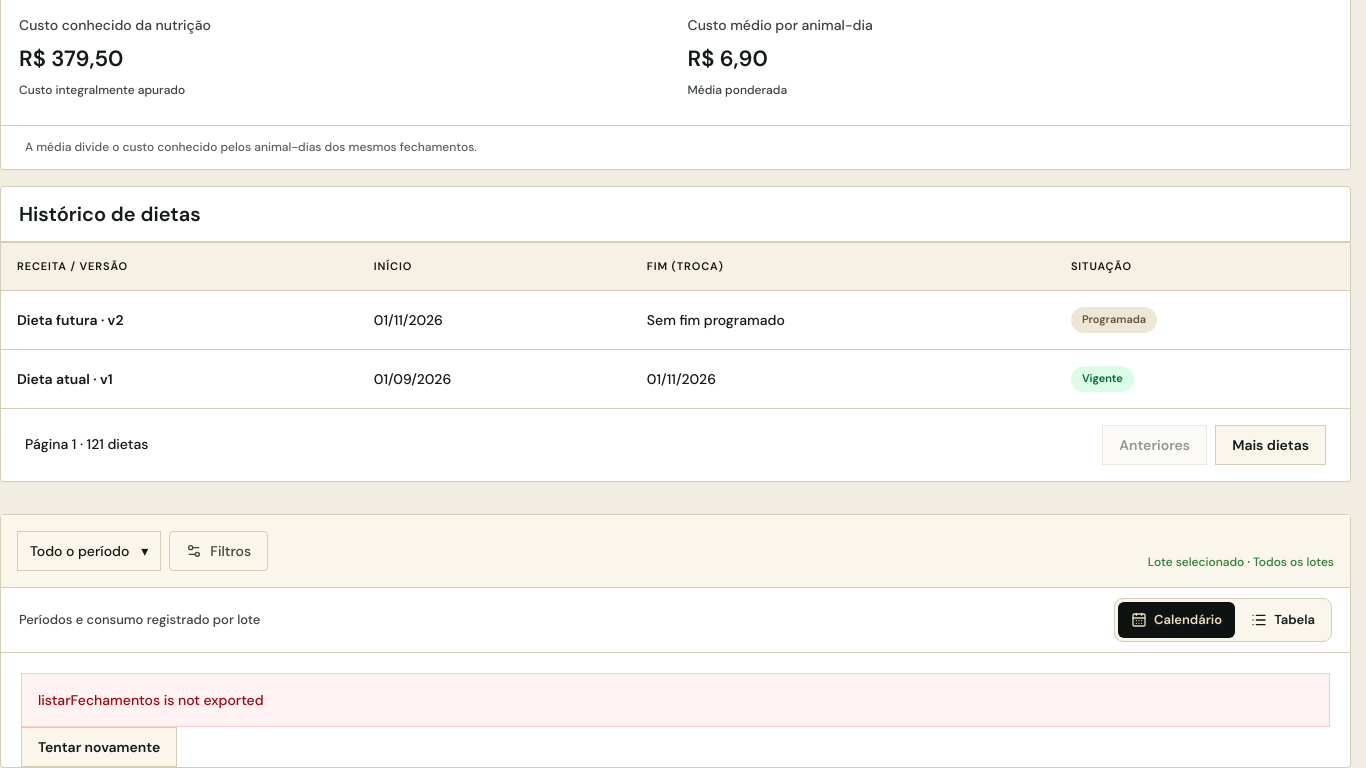
Scenario: nutrição do lote › separa vigente/futura e pagina o histórico sem permissão de escrita
This screenshot has width=1366, height=768.
(page scrolled)
Click the button "Mais dietas" at point(1271, 445), box [1215,425,1326,465]
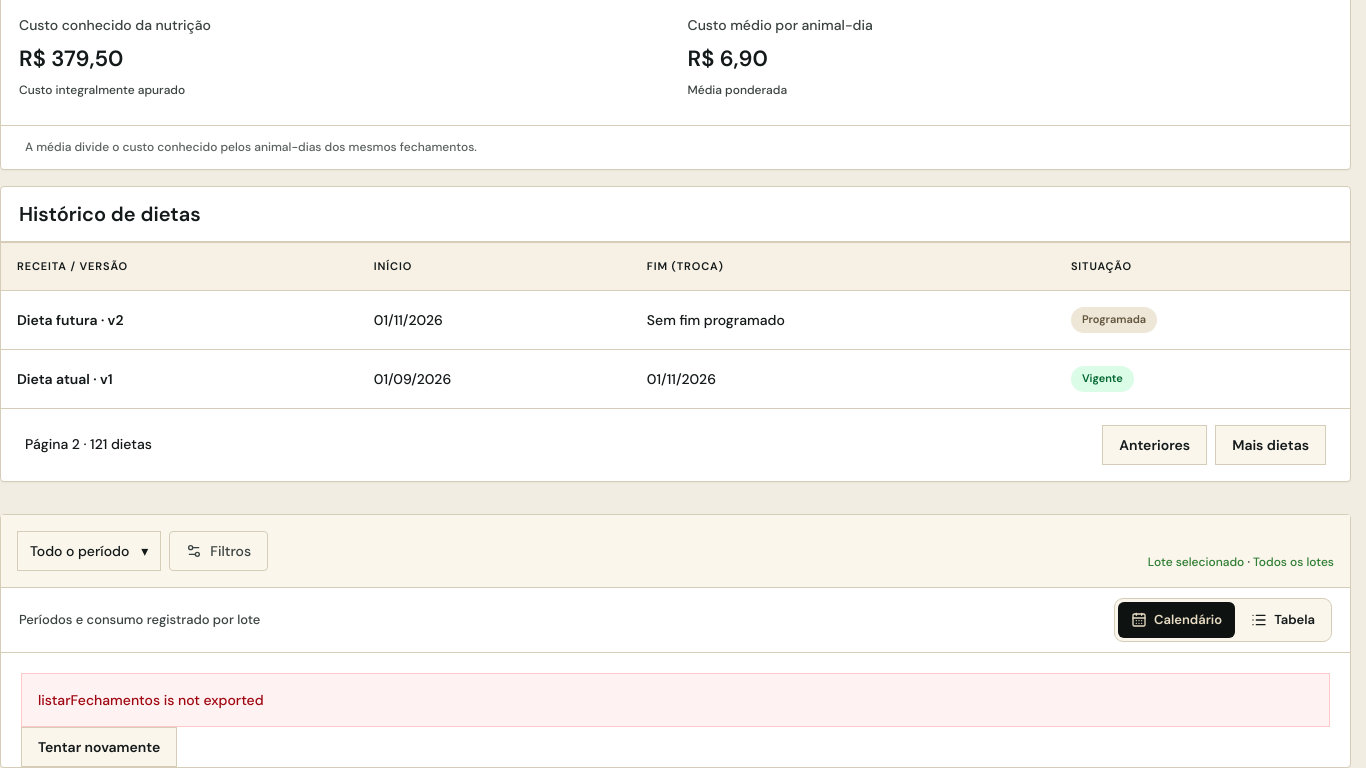
Expected: the text "R$ 379,50" is shown, [19,44,123,73]
Result: the text "Página 2 · 121 dietas" is shown at [25,434,152,455]
